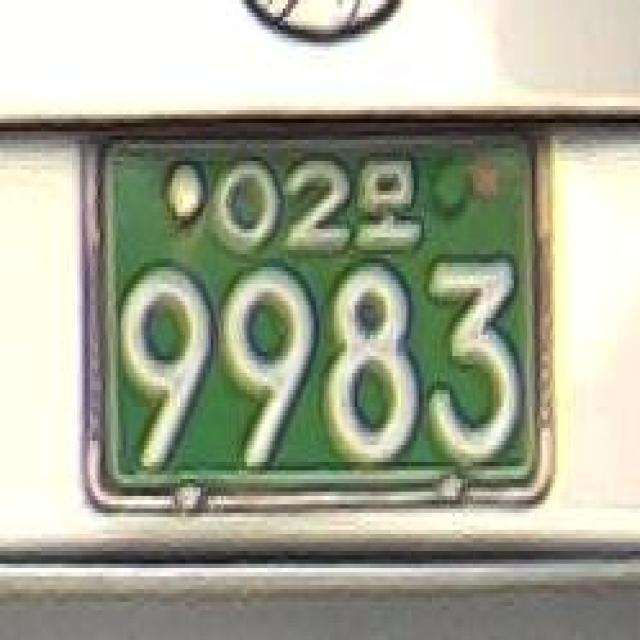illegal_plate: (65, 99, 568, 549)
